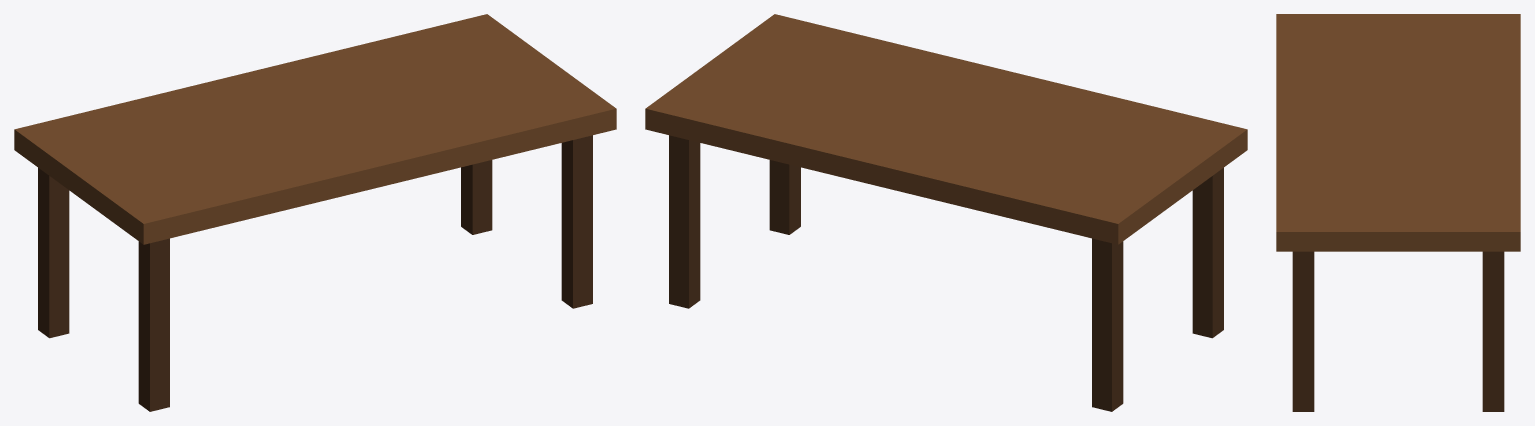
Rendered from table.3a6779b8.glb.
3 views of the same model, side by side, from view 1: azimuth 30°, elevation 25°; view 2: azimuth 150°, elevation 25°; view 3: azimuth 270°, elevation 25° (orthographic). The views are drawn at different scales.
Visible parts, largest first — view 1: body; view 2: body; view 3: body.
Boxes of the visible parts, left/top/right/bottom form: body: left=14, top=14, right=616, bottom=411; body: left=645, top=14, right=1247, bottom=411; body: left=1276, top=14, right=1520, bottom=411.
Size of the model in its own units: 1.9 by 0.76 by 0.9.
